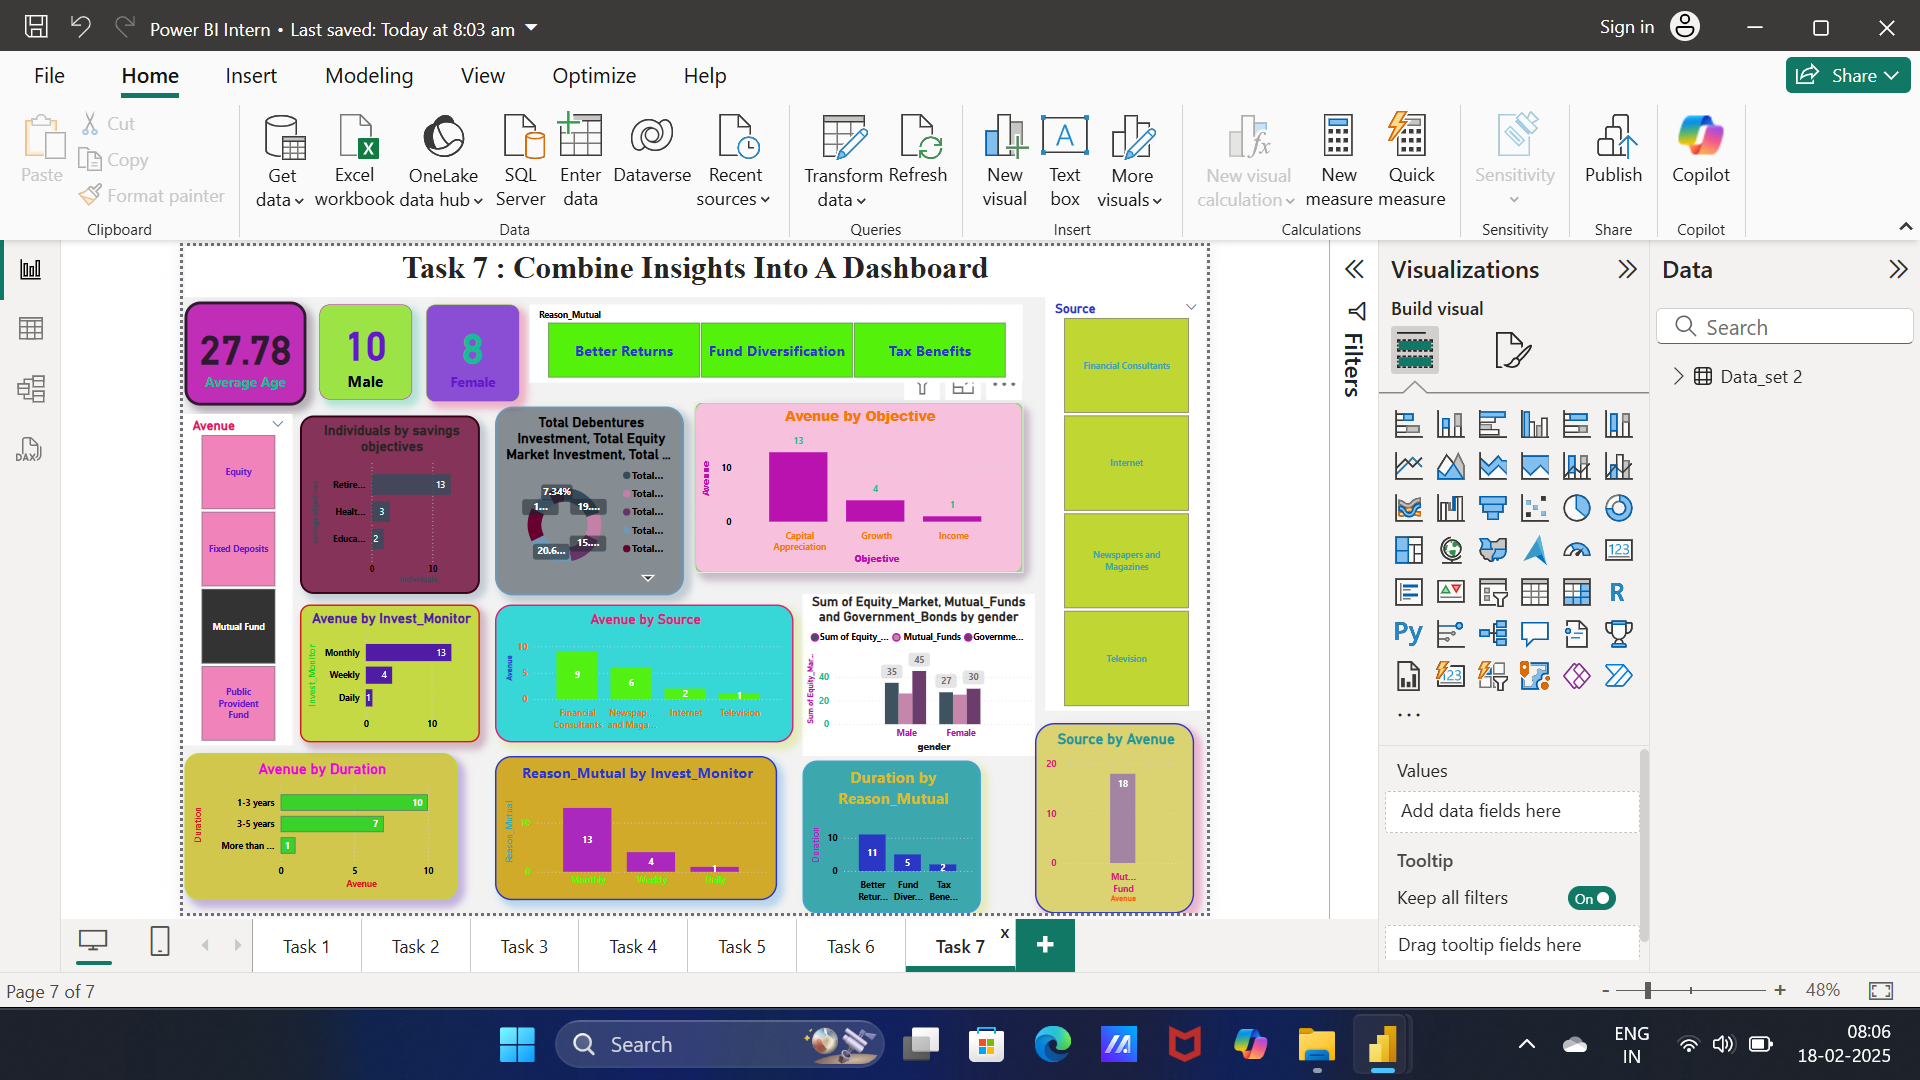

The dashboard page shown, as its layout file describes it:
{"tool":"powerbi","page":{"name":"Task 7","canvas":[1415,922],"ordinal":6},"visuals":[{"type":"textbox","box":[2.1,0,1412.1,70.5],"z":0},{"type":"card","fields":{"Values":["Data_set 2.Average Age"]},"box":[1.6,77.7,168.4,144.1],"z":1000},{"type":"clusteredBarChart","fields":{"Category":["Data_set 2.What are your savings objectives?"],"Y":["CountNonNull(Data_set 2.gender)"]},"box":[161.7,234.3,248.8,246.7],"z":2000},{"type":"clusteredColumnChart","fields":{"Category":["Data_set 2.gender"],"Y":["Sum(Data_set 2.Equity_Market)","Sum(Data_set 2.Mutual_Funds)","Sum(Data_set 2.Government_Bonds)"]},"box":[856.4,481.1,321.4,223.9],"z":3000},{"type":"card","fields":{"Values":["Data_set 2.Male"]},"box":[189.4,81,127.9,131.2],"z":4000},{"type":"card","fields":{"Values":["Data_set 2.Female"]},"box":[335.2,81,129.5,134.4],"z":5000},{"type":"clusteredColumnChart","fields":{"Category":["Data_set 2.Objective"],"Y":["CountNonNull(Data_set 2.Avenue)"]},"box":[707.1,215.6,454.1,236.4],"z":6000},{"type":"slicer","fields":{"Values":["Data_set 2.Avenue"]},"box":[0,232.2,151.4,458.2],"z":7000},{"type":"clusteredBarChart","fields":{"Category":["Data_set 2.Duration"],"Y":["CountNonNull(Data_set 2.Avenue)"]},"box":[2.1,700.8,377.4,203.2],"z":8000},{"type":"clusteredBarChart","fields":{"Category":["Data_set 2.Invest_Monitor"],"Y":["CountNonNull(Data_set 2.Avenue)"]},"box":[161.7,495.6,248.8,190.8],"z":9000},{"type":"slicer","fields":{"Values":["Data_set 2.Reason_Mutual"]},"box":[479,80.9,682.2,107.8],"z":10000},{"type":"clusteredColumnChart","fields":{"Category":["Data_set 2.Reason_Mutual"],"Y":["CountNonNull(Data_set 2.Duration)"]},"box":[856.4,711.2,246.7,211.5],"z":11000},{"type":"clusteredColumnChart","fields":{"Category":["Data_set 2.Invest_Monitor"],"Y":["CountNonNull(Data_set 2.Reason_Mutual)"]},"box":[431.3,705,389.8,199.1],"z":12000},{"type":"donutChart","fields":{"Y":["Data_set 2.Total Debentures","Data_set 2.Total Equity Market","Data_set 2.Total Fixed Deposits","Data_set 2.Total Gold","Data_set 2.Total Government Bonds","Data_set 2.Total Mutual Funds","Data_set 2.Total PPF Investments"]},"box":[431.3,221.9,261.3,261.3],"z":13000},{"type":"clusteredColumnChart","fields":{"Category":["Data_set 2.Source"],"Y":["CountNonNull(Data_set 2.Avenue)"]},"box":[431.3,495.6,412.6,190.8],"z":14000},{"type":"slicer","fields":{"Values":["Data_set 2.Source"]},"box":[1192.3,70.5,221.9,572.3],"z":15000},{"type":"clusteredColumnChart","fields":{"Y":["CountNonNull(Data_set 2.Source)"],"Category":["Data_set 2.Avenue"]},"box":[1177.8,659.4,219.8,263.3],"z":16000}]}

Visuals, with their boxes on the page's 1415x922 design canvas (x1, y1, x2, y2). These are canvas units, not pixel positions in the 1920x1080 screenshot, which may show the page scaled, cropped or inside an application window:
textbox: detection(2, 0, 1414, 70)
card - Data_set 2.Average Age: detection(2, 78, 170, 222)
clusteredBarChart - Data_set 2.What are your savings objectives? x CountNonNull(Data_set 2.gender): detection(162, 234, 410, 481)
clusteredColumnChart - Data_set 2.gender x Sum(Data_set 2.Equity_Market): detection(856, 481, 1178, 705)
card - Data_set 2.Male: detection(189, 81, 317, 212)
card - Data_set 2.Female: detection(335, 81, 465, 215)
clusteredColumnChart - Data_set 2.Objective x CountNonNull(Data_set 2.Avenue): detection(707, 216, 1161, 452)
slicer - Data_set 2.Avenue: detection(0, 232, 151, 690)
clusteredBarChart - Data_set 2.Duration x CountNonNull(Data_set 2.Avenue): detection(2, 701, 380, 904)
clusteredBarChart - Data_set 2.Invest_Monitor x CountNonNull(Data_set 2.Avenue): detection(162, 496, 410, 686)
slicer - Data_set 2.Reason_Mutual: detection(479, 81, 1161, 189)
clusteredColumnChart - Data_set 2.Reason_Mutual x CountNonNull(Data_set 2.Duration): detection(856, 711, 1103, 923)
clusteredColumnChart - Data_set 2.Invest_Monitor x CountNonNull(Data_set 2.Reason_Mutual): detection(431, 705, 821, 904)
donutChart - Data_set 2.Total Debentures x Data_set 2.Total Equity Market: detection(431, 222, 693, 483)
clusteredColumnChart - Data_set 2.Source x CountNonNull(Data_set 2.Avenue): detection(431, 496, 844, 686)
slicer - Data_set 2.Source: detection(1192, 70, 1414, 643)
clusteredColumnChart - CountNonNull(Data_set 2.Source) x Data_set 2.Avenue: detection(1178, 659, 1398, 923)
